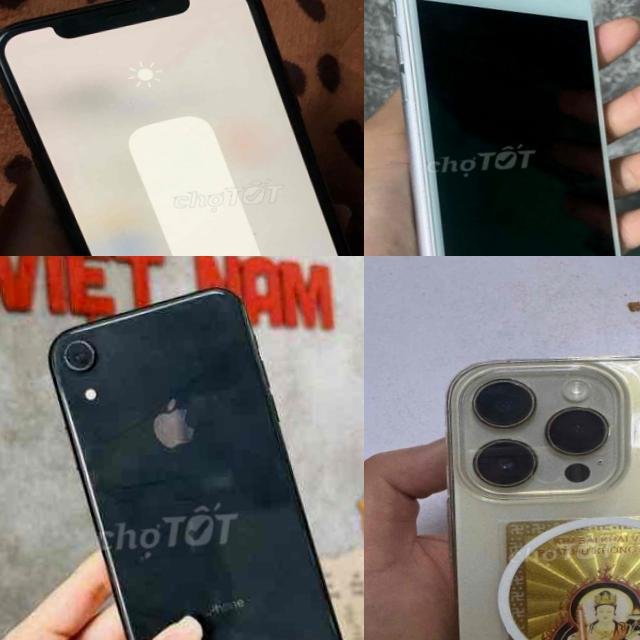gen_14: (428, 330, 640, 640)
gen_6: (376, 0, 640, 256)
gen_x_xs: (23, 265, 364, 640), (0, 0, 364, 256)
